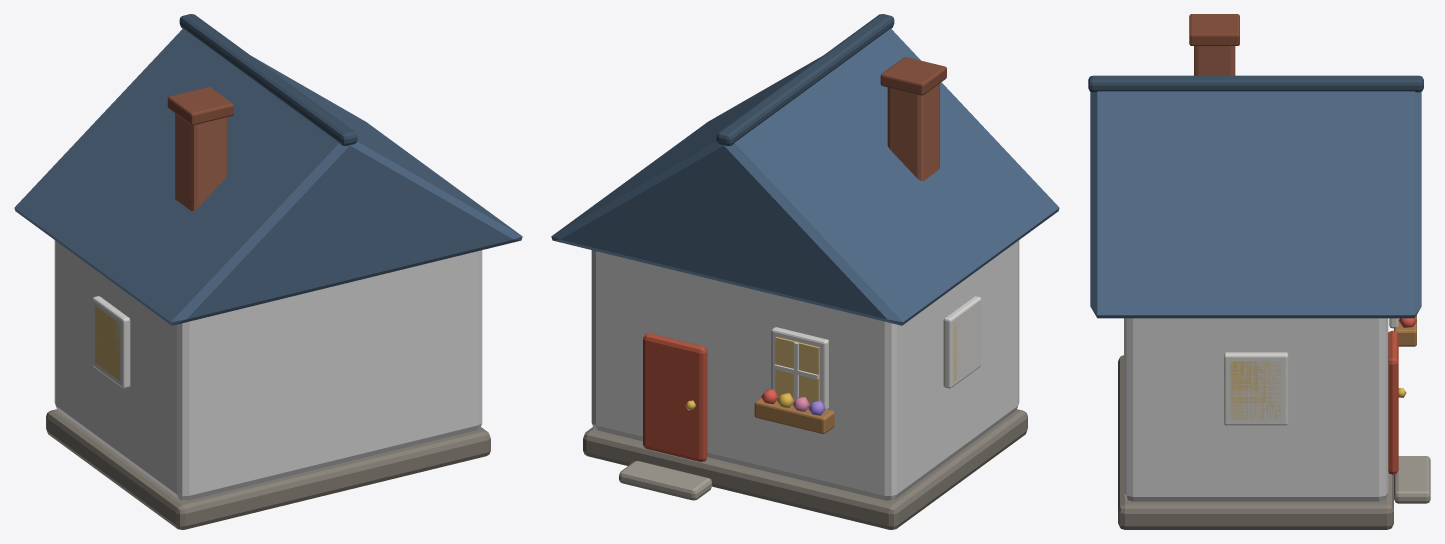
File: cottage_blue.fbx
3 views of the same model, side by side, from view 1: azimuth 30°, elevation 25°; view 2: azimuth 150°, elevation 25°; view 3: azimuth 270°, elevation 25° (orthographic).
Visible parts, largest first — view 1: cottage_blue; view 2: cottage_blue; view 3: cottage_blue.
Boxes of the visible parts, bbox=[...] form: cottage_blue: bbox=[14, 14, 522, 529]; cottage_blue: bbox=[551, 14, 1059, 529]; cottage_blue: bbox=[1088, 14, 1430, 529].
Bounding box in the file's own units: 1.79 × 1.86 × 1.49.
